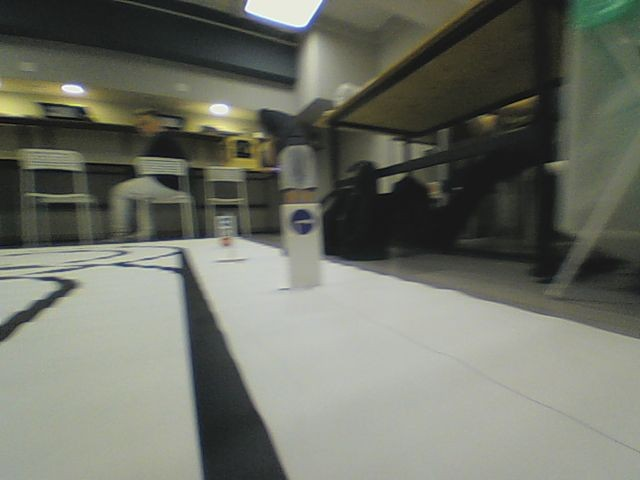Right: (290, 209, 317, 235)
